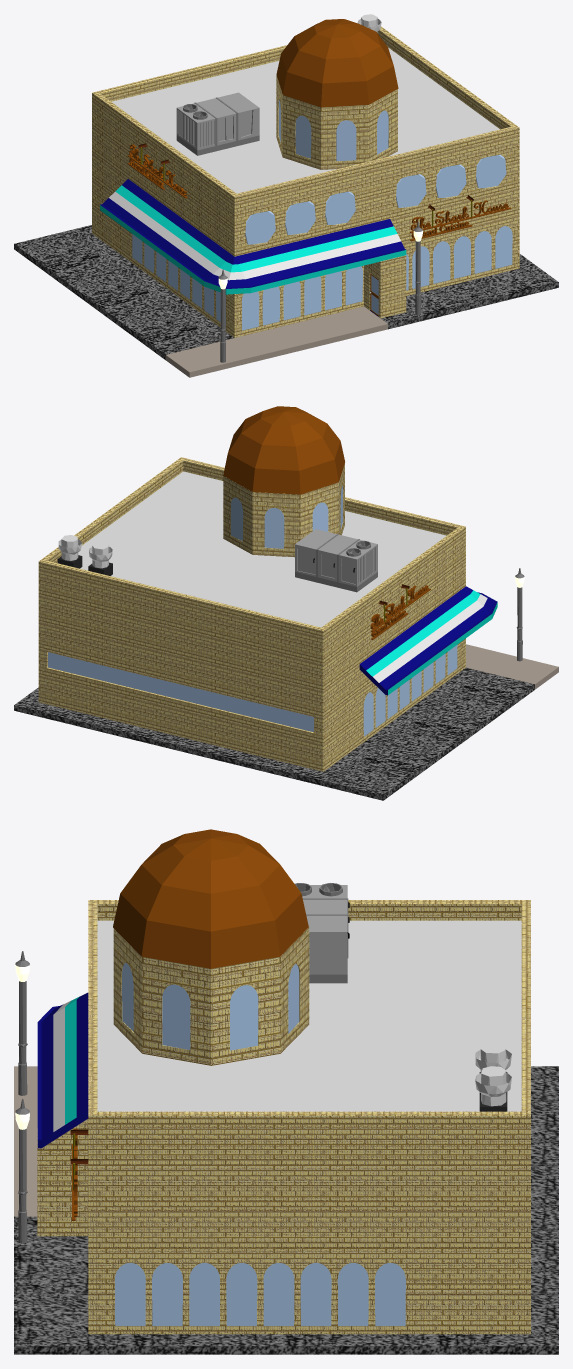
The model's file is The Shark House.glb.
3 renders of one model, top to bottom at view 1: azimuth 30°, elevation 25°; view 2: azimuth 150°, elevation 25°; view 3: azimuth 270°, elevation 25°, orthographic. The views are drawn at different scales.
Parts seen in each view (by area): view 1: Ext Walls, Floor & Ground, Roof, Canopy, Windows - Low, Sphere, Cylinder, Windows, RTU HP, Sign, Streetlight, Sign.001; view 2: Ext Walls, Roof, Floor & Ground, Sphere, Canopy, Cylinder, Window - Kitchen, Windows - Low, RTU HP, PRVUs, Sign.001, Streetlight; view 3: Ext Walls, Roof, Floor & Ground, Sphere, Windows - Low, Cylinder, Canopy, RTU HP, Streetlight, PRVUs, Sign.
Boxes of the visible parts, <box> form: Ext Walls: <box>92,26,519,337</box>; Floor & Ground: <box>14,225,558,377</box>; Roof: <box>111,47,499,193</box>; Canopy: <box>100,179,406,294</box>; Windows - Low: <box>132,99,512,330</box>; Sphere: <box>276,19,398,107</box>; Cylinder: <box>276,74,397,169</box>; Windows: <box>245,154,506,244</box>; RTU HP: <box>176,92,259,155</box>; Sign: <box>410,195,511,241</box>; Streetlight: <box>218,221,422,362</box>; Sign.001: <box>127,143,187,198</box>; Ext Walls: <box>38,457,465,771</box>; Roof: <box>78,471,446,627</box>; Floor & Ground: <box>14,644,558,800</box>; Sphere: <box>223,406,344,494</box>; Canopy: <box>359,586,497,695</box>; Cylinder: <box>223,463,344,557</box>; Window - Kitchen: <box>48,652,313,732</box>; Windows - Low: <box>231,485,457,736</box>; RTU HP: <box>295,529,377,592</box>; PRVUs: <box>57,535,112,575</box>; Sign.001: <box>370,584,430,639</box>; Streetlight: <box>515,568,524,661</box>; Ext Walls: <box>37,900,530,1334</box>; Roof: <box>97,920,521,1111</box>; Floor & Ground: <box>14,1066,558,1354</box>; Sphere: <box>113,829,308,968</box>; Windows - Low: <box>115,963,405,1325</box>; Cylinder: <box>113,927,309,1065</box>; Canopy: <box>37,992,88,1148</box>; RTU HP: <box>294,883,349,983</box>; Streetlight: <box>15,951,29,1243</box>; PRVUs: <box>475,1043,511,1111</box>; Sign: <box>70,1128,88,1220</box>.
Size of the model in its own units: 21.74 by 14.37 by 17.9.
Materials: 21 (2 with a texture image).
